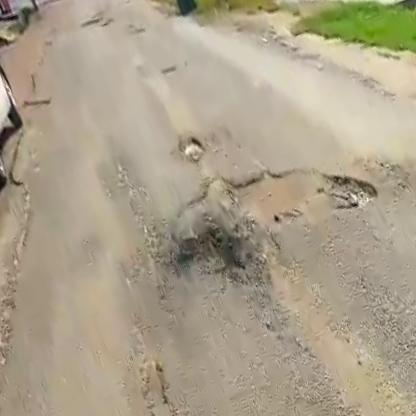pothole: (172, 125, 390, 283), (175, 130, 213, 165)
